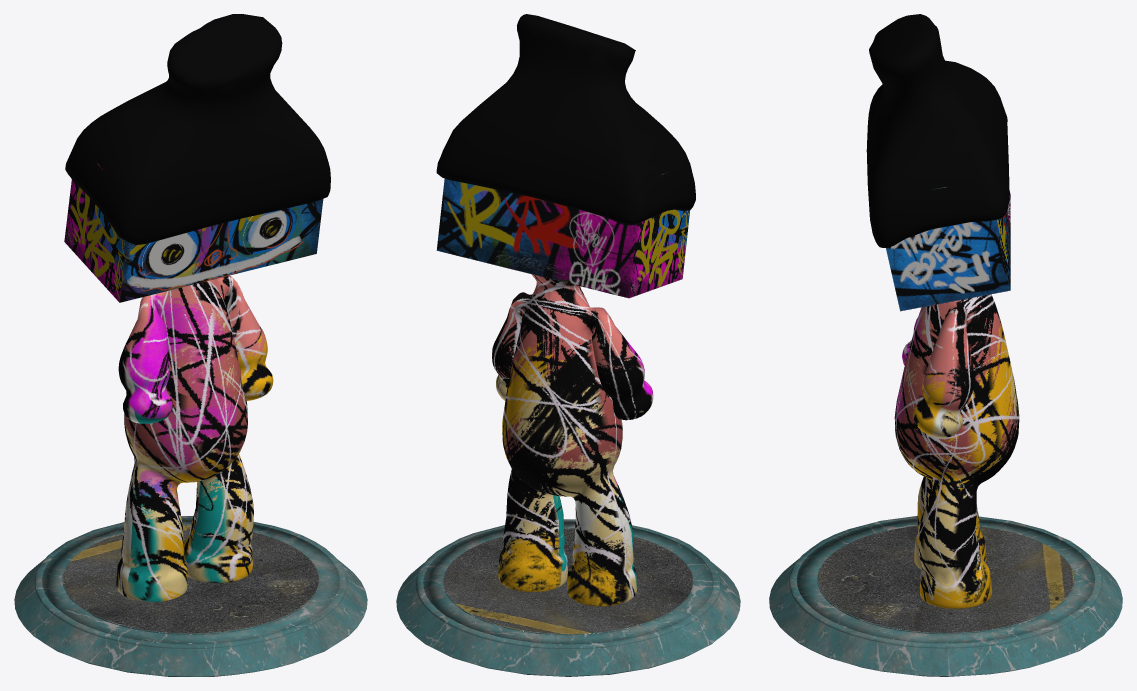
The picture shows the model from 3 angles, left to right: view 1: azimuth 30°, elevation 25°; view 2: azimuth 150°, elevation 25°; view 3: azimuth 270°, elevation 25°; orthographic projection. The views are drawn at different scales.
Parts seen in each view (by area): view 1: BBody; view 2: BBody; view 3: BBody.
Boxes of the visible parts, x1,y1,x2,y2 form: BBody: (14, 14, 367, 676); BBody: (396, 14, 740, 676); BBody: (769, 14, 1122, 676).
Bounding box in the file's own units: 1.45 × 2.64 × 1.45.
Materials: 5 (4 with a texture image).
